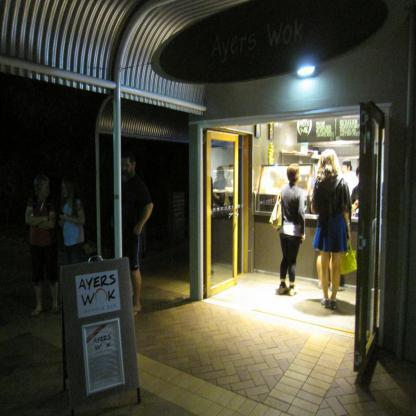door: (203, 129, 240, 303)
hinged: (203, 134, 207, 144), (204, 284, 206, 294)
lever: (234, 213, 240, 220)
